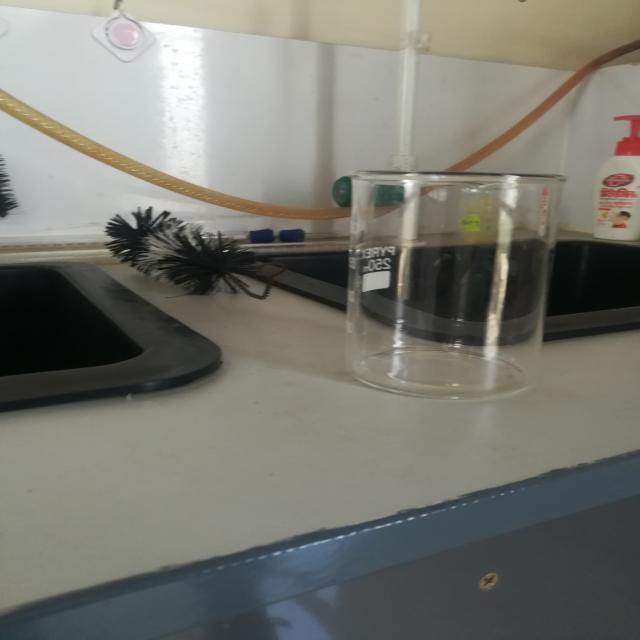Beaker: (312, 126, 578, 429)
